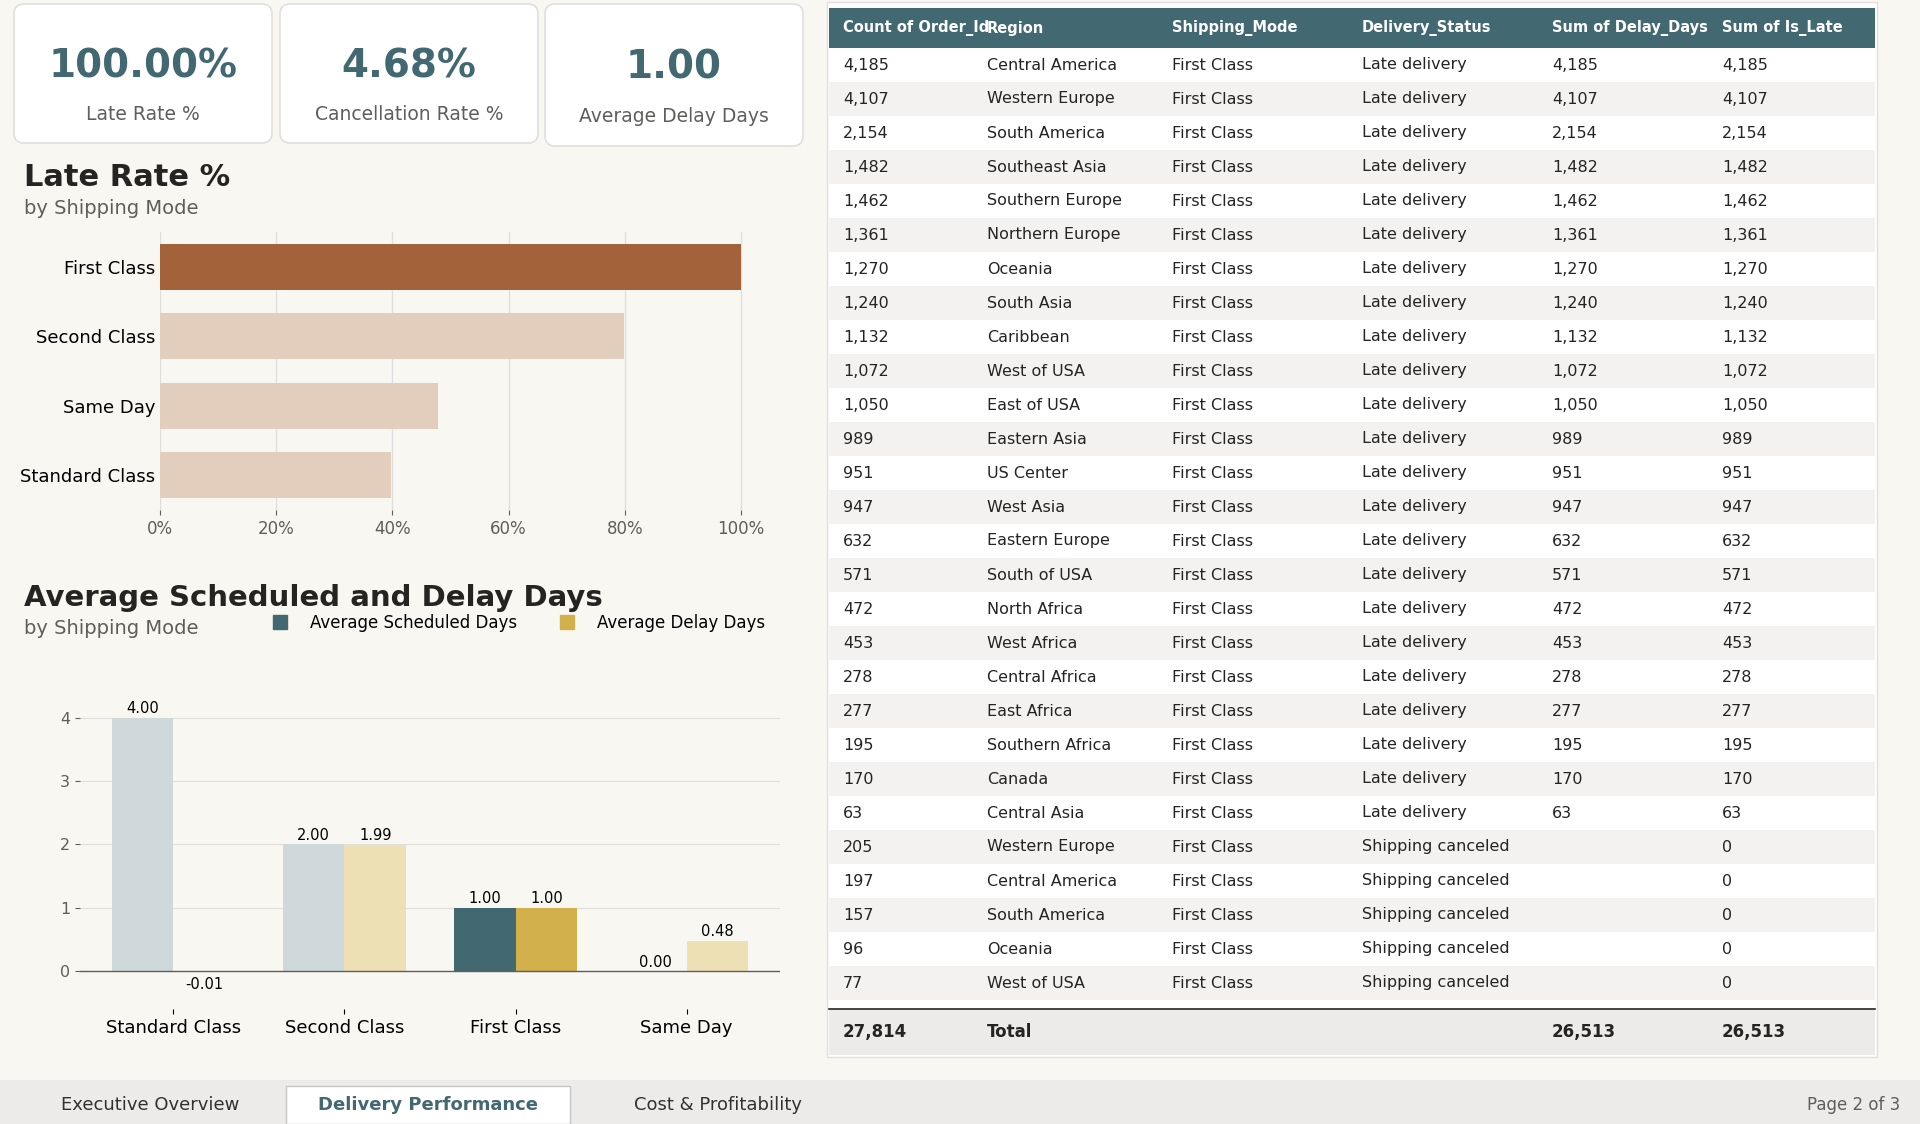

What the dashboard file says about the page in this screenshot:
{"tool":"powerbi","page":{"name":"Delivery Performance","canvas":[1920,1080],"ordinal":1},"visuals":[{"type":"cardVisual","fields":{"Data":["Fact_OrderItems.Late Rate %"]},"box":[14.8,96,265.7,147.1],"z":0},{"type":"cardVisual","fields":{"Data":["Fact_OrderItems.Cancellation Rate %"]},"box":[280.5,96,266,150],"z":1000},{"type":"cardVisual","fields":{"Data":["Fact_OrderItems.Average Delay Days"]},"box":[546.2,97.4,266,150],"z":2000},{"type":"clusteredBarChart","title":"Late Rate %","fields":{"Category":["Fact_OrderItems.Shipping_Mode"],"Y":["Fact_OrderItems.Late Rate %"]},"box":[8,252,800,360],"z":3000},{"type":"clusteredColumnChart","title":"Average Scheduled and Delay Days","fields":{"Category":["Fact_OrderItems.Shipping_Mode"],"Y":["Fact_OrderItems.Average Scheduled Days","Fact_OrderItems.Average Delay Days"]},"box":[10,612,800,444],"z":4000},{"type":"tableEx","fields":{"Values":["CountNonNull(Fact_OrderItems.Order_Id)","Fact_OrderItems.Region","Fact_OrderItems.Shipping_Mode","Fact_OrderItems.Delivery_Status","Sum(Fact_OrderItems.Delay_Days)","Sum(Fact_OrderItems.Is_Late)"]},"box":[828,96,1050,960],"z":5000},{"type":"textbox","box":[8,20,1244,76],"z":5001}]}

Visuals, with their boxes on the page's 1920x1080 design canvas (x1, y1, x2, y2). These are canvas units, not pixel positions in the 1920x1124 screenshot, which may show the page scaled, cropped or inside an application window:
cardVisual - Fact_OrderItems.Late Rate %: bbox=[15, 96, 280, 243]
cardVisual - Fact_OrderItems.Cancellation Rate %: bbox=[280, 96, 546, 246]
cardVisual - Fact_OrderItems.Average Delay Days: bbox=[546, 97, 812, 247]
"Late Rate %" clusteredBarChart: bbox=[8, 252, 808, 612]
"Average Scheduled and Delay Days" clusteredColumnChart: bbox=[10, 612, 810, 1056]
tableEx - CountNonNull(Fact_OrderItems.Order_Id) x Fact_OrderItems.Region: bbox=[828, 96, 1878, 1056]
textbox: bbox=[8, 20, 1252, 96]
